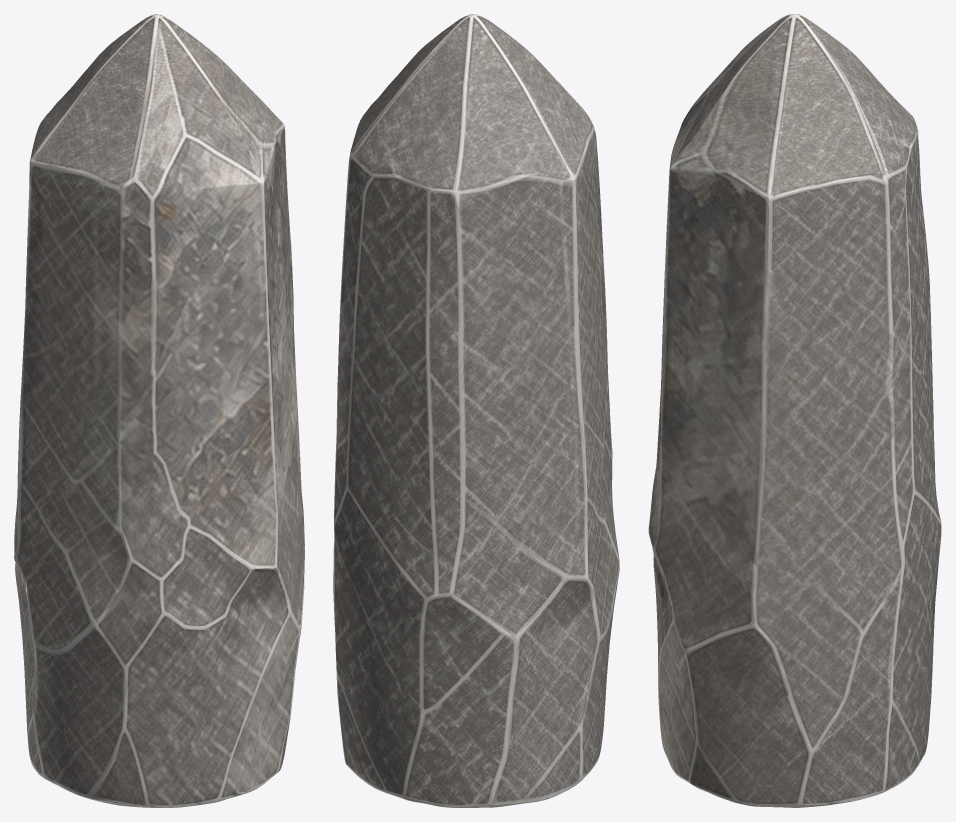
File: obj_crystal.glb
The picture shows the model from 3 angles, left to right: view 1: azimuth 30°, elevation 25°; view 2: azimuth 150°, elevation 25°; view 3: azimuth 270°, elevation 25°; orthographic projection.
Visible parts, largest first — view 1: Mesh_0; view 2: Mesh_0; view 3: Mesh_0.
Part boxes in pixels (x1,y1,x2,y2): Mesh_0: [14, 14, 304, 807]; Mesh_0: [333, 14, 619, 807]; Mesh_0: [648, 14, 941, 807].
Bounding box in the file's own units: 0.6861 × 1.9 × 0.6787.
Materials: 1 (1 with a texture image).
